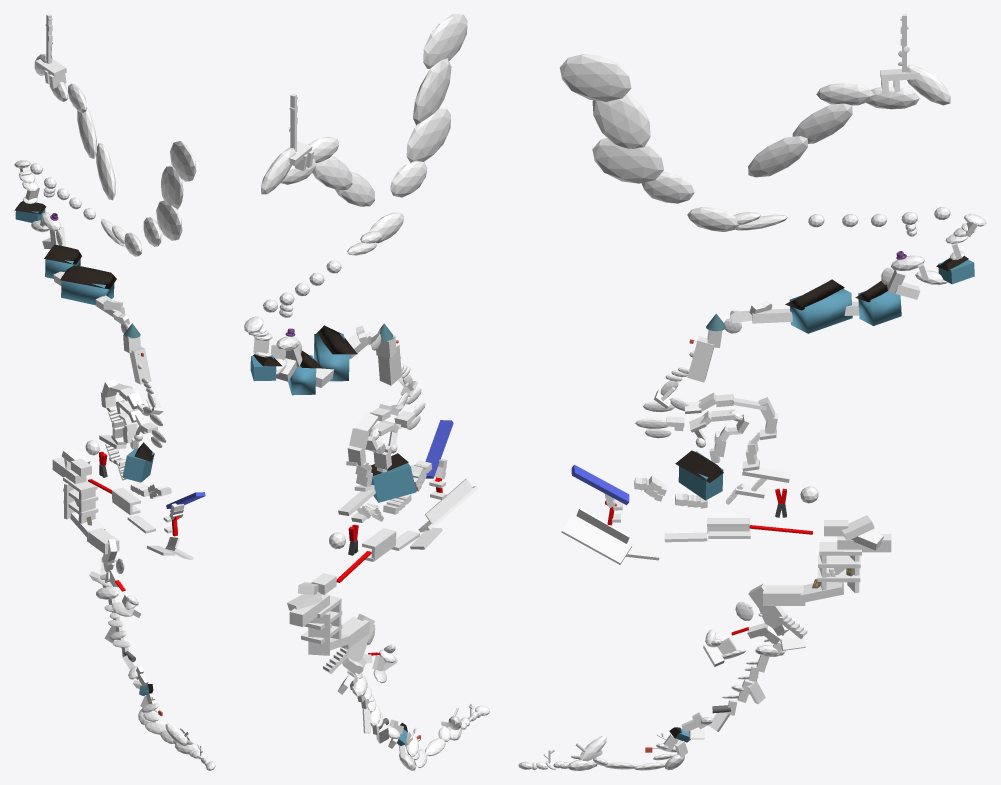
The model's file is getting_over_over_it_map.glb.
The picture shows the model from 3 angles, left to right: view 1: azimuth 30°, elevation 25°; view 2: azimuth 150°, elevation 25°; view 3: azimuth 270°, elevation 25°; orthographic projection. The views are drawn at different scales.
Parts seen in each view (by area): view 1: map_4; view 2: map_4; view 3: map_4.
Part boxes in pixels (x1,y1,x2,y2): map_4: (14, 14, 215, 770); map_4: (244, 14, 489, 770); map_4: (518, 14, 986, 770).
Bounding box in the file's own units: 26.35 × 349 × 196.
33 materials, 1 textured.
